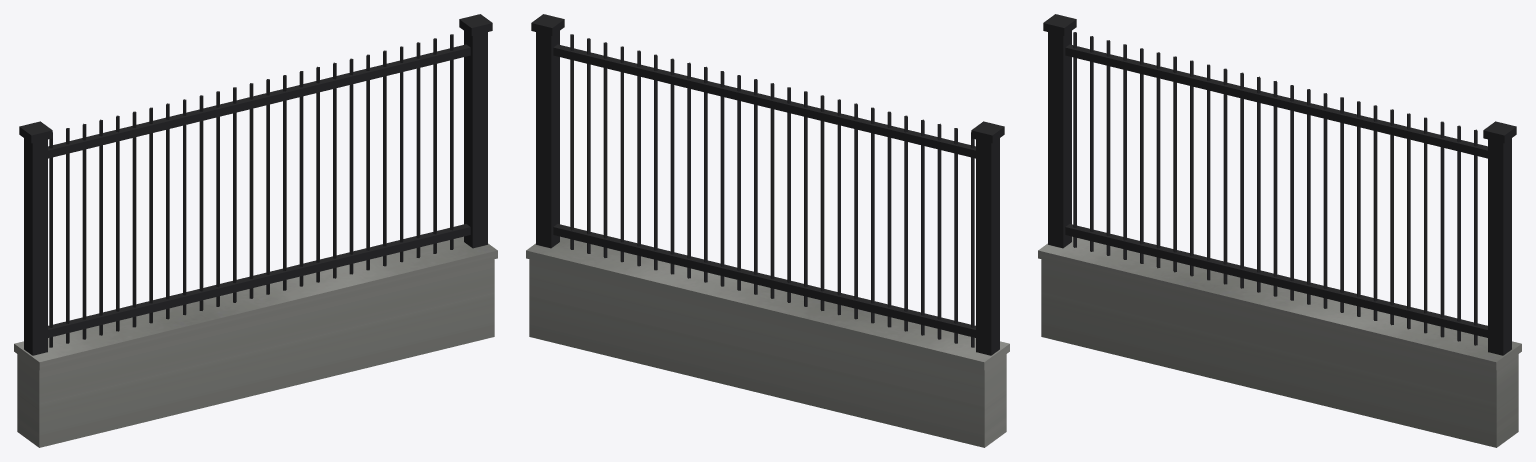
Rendered from valla_enrejado_lod1.glb.
3 views of the same model, side by side, from view 1: azimuth 30°, elevation 25°; view 2: azimuth 150°, elevation 25°; view 3: azimuth 330°, elevation 25° (orthographic).
Parts seen in each view (by area): view 1: Pieza_MAT_Concreto, Pieza_MAT_Valla_Hierro_Negro; view 2: Pieza_MAT_Concreto, Pieza_MAT_Valla_Hierro_Negro; view 3: Pieza_MAT_Concreto, Pieza_MAT_Valla_Hierro_Negro.
Part boxes in pixels (x1=…): Pieza_MAT_Concreto: x1=14, y1=236, x2=497, y2=447; Pieza_MAT_Valla_Hierro_Negro: x1=19, y1=14, x2=492, y2=355; Pieza_MAT_Concreto: x1=526, y1=236, x2=1009, y2=447; Pieza_MAT_Valla_Hierro_Negro: x1=531, y1=14, x2=1004, y2=355; Pieza_MAT_Concreto: x1=1038, y1=236, x2=1521, y2=447; Pieza_MAT_Valla_Hierro_Negro: x1=1043, y1=14, x2=1516, y2=355.
Bounding box in the file's own units: 3.04 × 1.95 × 0.29.
2 materials, 1 textured.
